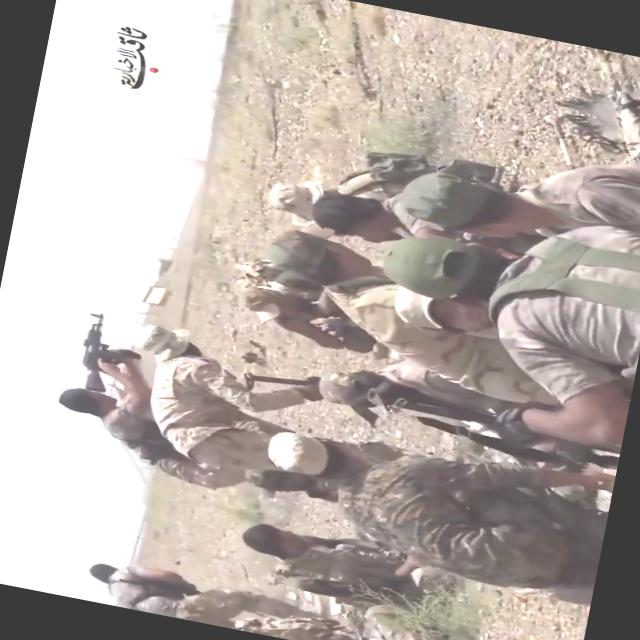long weapon: (59, 300, 138, 398)
